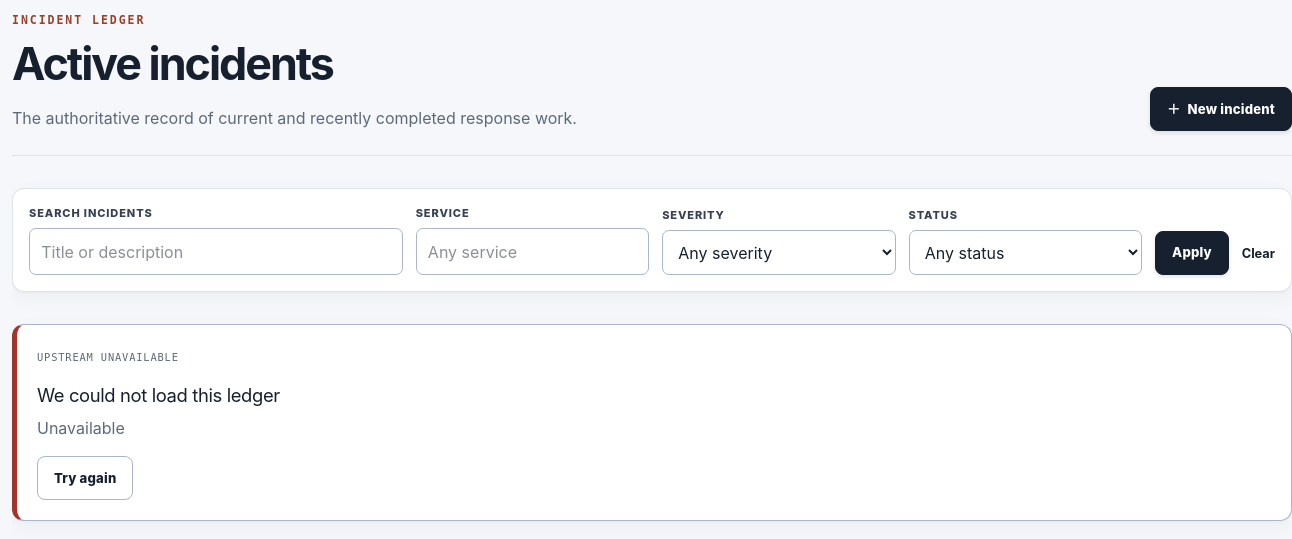
IncidentListScreen › shows a retryable backend error
What coordinates should you click on to do the following:
click the button "Try again"
I would click on:
 (85, 478)
Its box is [37,456,133,500].
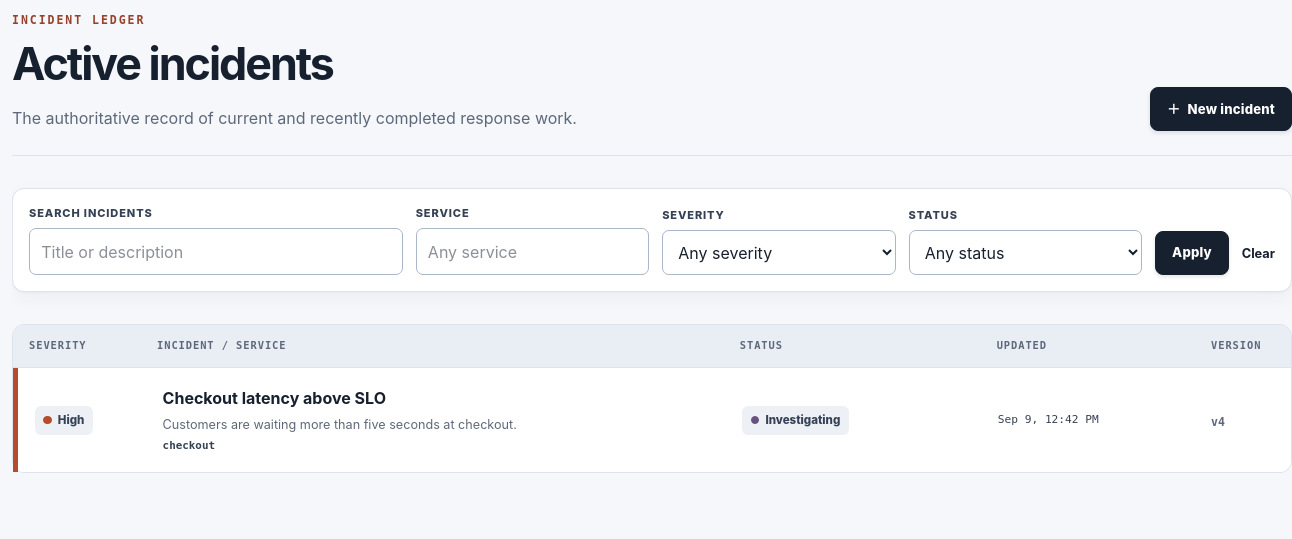
Result: the link "Checkout latency above SLO" is shown at [163,386,386,410]
